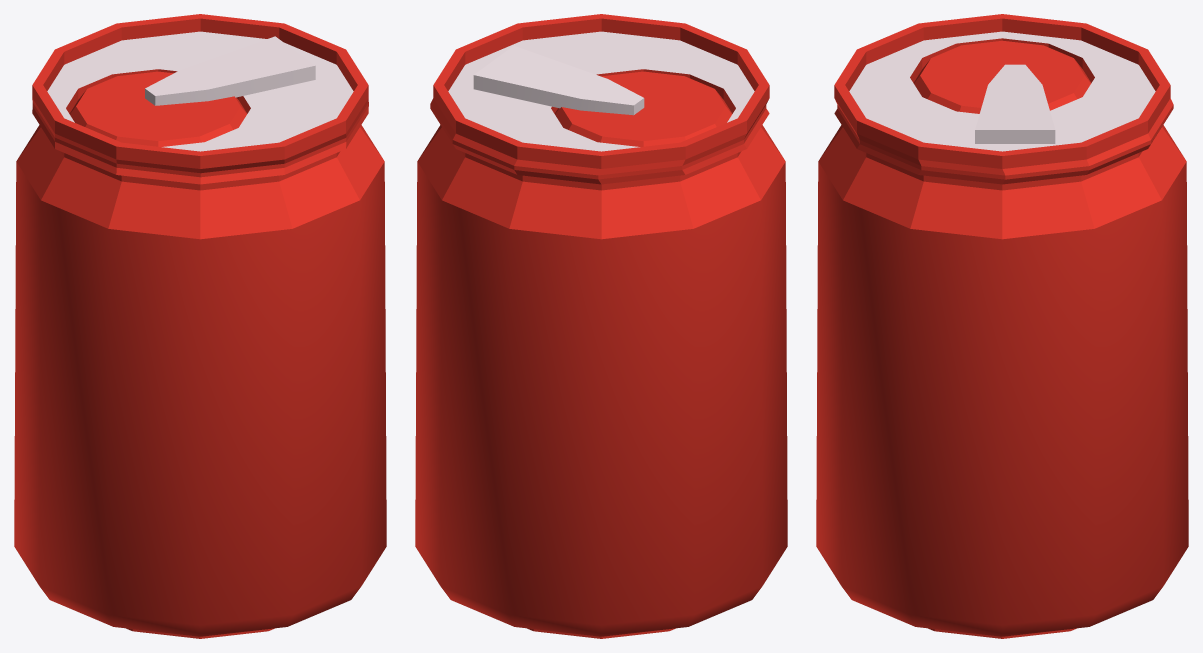
Rendered from SM_cola_01.fbx.
3 renders of one model, left to right at view 1: azimuth 30°, elevation 25°; view 2: azimuth 150°, elevation 25°; view 3: azimuth 270°, elevation 25°, orthographic.
Parts seen in each view (by area): view 1: cola_01; view 2: cola_01; view 3: cola_01.
Boxes of the visible parts, <box> form: cola_01: <box>14,14,386,638</box>; cola_01: <box>415,14,787,638</box>; cola_01: <box>816,14,1188,638</box>.
Size of the model in its own units: 19.79 by 29.37 by 19.79.
